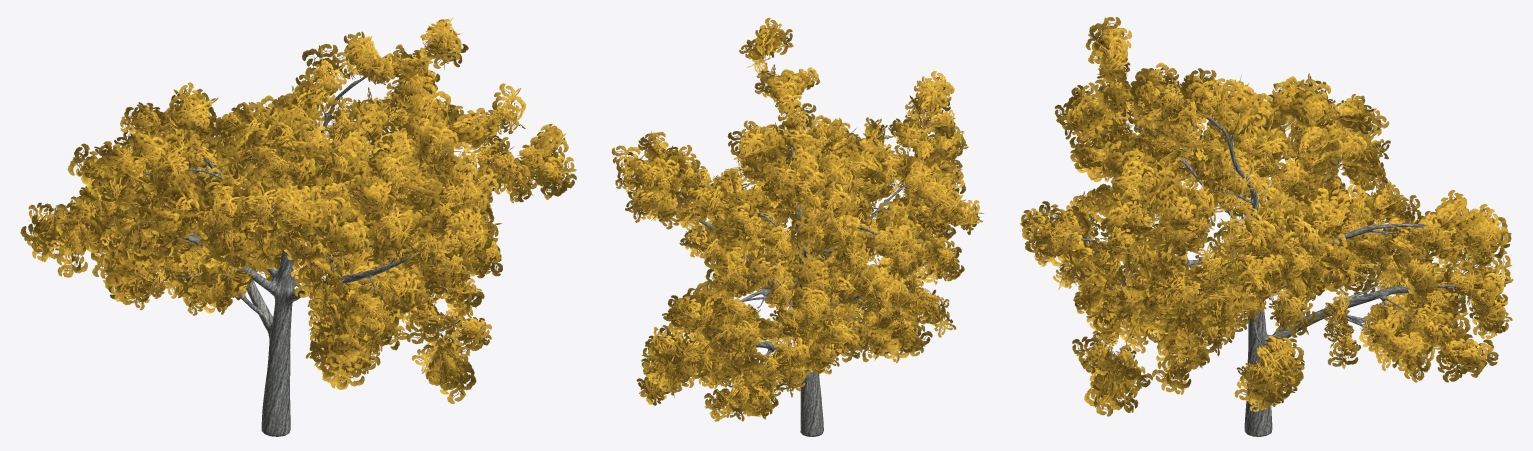
Rendered from ginkgo.glb.
The picture shows the model from 3 angles, left to right: view 1: azimuth 30°, elevation 25°; view 2: azimuth 150°, elevation 25°; view 3: azimuth 270°, elevation 25°; orthographic projection. The views are drawn at different scales.
Visible parts, largest first — view 1: Leaves Yellow, TreeAutumn; view 2: Leaves Yellow, TreeAutumn; view 3: Leaves Yellow, TreeAutumn.
Boxes of the visible parts, x1,y1,x2,y2 form: Leaves Yellow: (20, 17, 576, 403); TreeAutumn: (142, 75, 471, 436); Leaves Yellow: (611, 17, 984, 421); TreeAutumn: (676, 115, 905, 436); Leaves Yellow: (1020, 17, 1513, 416); TreeAutumn: (1078, 109, 1460, 436).
Bounding box in the file's own units: 102 × 92.88 × 102.
Materials: 2 (2 with a texture image).
